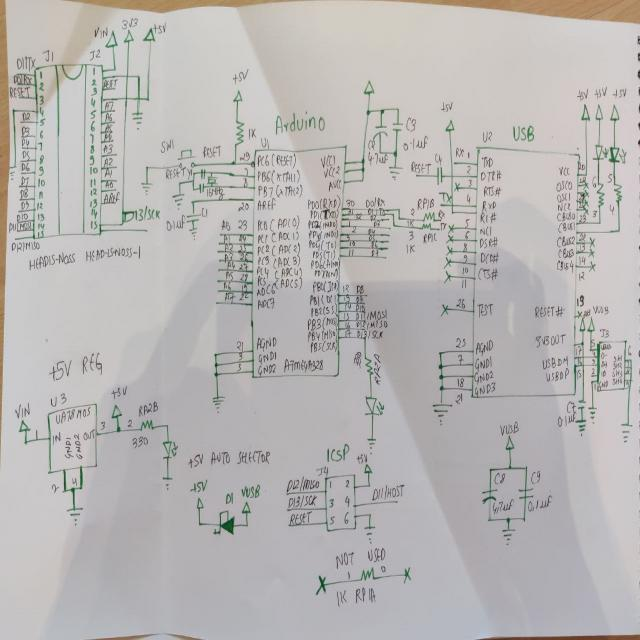capacitor: (480, 487, 498, 504), (372, 123, 388, 141), (518, 486, 534, 499), (185, 212, 201, 223), (390, 120, 402, 133), (576, 398, 586, 410), (436, 166, 442, 184), (200, 167, 206, 180), (198, 182, 204, 194)
crossover: (123, 72, 129, 79), (135, 95, 141, 102), (450, 172, 454, 180), (581, 353, 585, 360), (450, 202, 454, 208), (581, 362, 585, 368)
diode: (213, 508, 235, 536), (362, 394, 384, 417), (607, 145, 627, 165), (162, 439, 178, 460), (591, 144, 609, 161)
ground: (431, 401, 453, 425), (66, 506, 84, 526), (130, 108, 144, 130), (210, 394, 226, 413), (387, 164, 403, 181), (500, 527, 515, 545), (171, 192, 185, 211), (620, 422, 632, 443), (365, 436, 377, 456), (364, 525, 376, 544), (574, 418, 586, 437), (139, 181, 153, 195), (161, 475, 173, 491), (587, 405, 597, 424), (9, 163, 17, 181), (188, 226, 197, 241)
junction: (358, 158, 366, 166), (364, 107, 370, 116), (616, 226, 622, 235), (115, 424, 121, 433), (392, 149, 398, 158), (379, 106, 385, 114), (437, 361, 443, 369), (505, 516, 511, 524), (438, 384, 444, 392), (579, 339, 585, 347), (22, 438, 28, 445), (507, 464, 513, 471), (394, 105, 400, 112), (359, 166, 365, 173), (111, 65, 117, 72), (244, 521, 250, 528), (213, 371, 219, 378), (189, 198, 195, 205), (438, 374, 444, 381), (232, 159, 238, 166), (587, 346, 593, 353), (196, 520, 202, 526), (61, 487, 67, 493), (70, 486, 76, 492), (521, 515, 526, 522), (135, 72, 140, 79), (487, 465, 492, 472), (487, 516, 492, 523), (11, 107, 16, 114), (597, 219, 602, 226), (629, 376, 633, 384), (164, 422, 169, 428), (78, 485, 84, 490), (144, 163, 148, 170), (145, 95, 149, 102), (438, 349, 442, 356), (360, 176, 364, 183), (177, 180, 181, 187), (124, 94, 128, 101), (368, 511, 372, 518), (214, 361, 218, 368), (629, 363, 633, 370), (213, 351, 217, 357), (524, 464, 528, 470), (396, 206, 400, 212), (367, 482, 371, 488), (391, 222, 395, 228), (450, 209, 454, 215), (362, 335, 366, 341), (192, 170, 196, 176), (590, 379, 594, 385), (378, 149, 382, 154), (191, 178, 195, 183), (629, 357, 633, 362), (397, 216, 401, 220), (628, 372, 632, 376), (192, 186, 194, 192), (392, 212, 394, 216), (210, 170, 212, 174), (210, 184, 212, 186)
resistor: (234, 118, 244, 147), (359, 566, 375, 582), (138, 418, 154, 432), (612, 182, 622, 202), (596, 182, 604, 207), (363, 356, 373, 376), (422, 211, 435, 222), (421, 223, 432, 230)
source: (104, 29, 118, 49), (608, 102, 620, 122), (361, 78, 375, 95), (142, 27, 156, 42), (581, 101, 591, 122), (595, 101, 605, 122), (110, 404, 123, 419), (504, 434, 515, 450), (18, 418, 30, 432), (122, 29, 134, 43), (444, 118, 455, 132), (232, 89, 243, 103), (241, 501, 251, 515), (587, 316, 595, 332), (578, 316, 586, 332), (363, 462, 373, 473), (196, 496, 204, 509)
switch: (176, 148, 196, 168)
terminal: (316, 572, 326, 595), (401, 564, 410, 583)
text: (28, 244, 140, 271), (187, 448, 271, 469), (47, 351, 103, 381), (274, 111, 324, 136), (334, 546, 386, 569), (256, 150, 296, 169), (256, 253, 300, 269), (256, 275, 302, 290), (282, 356, 324, 372), (255, 168, 299, 183), (256, 265, 302, 279), (371, 482, 403, 502), (256, 215, 298, 230), (123, 205, 160, 222), (256, 242, 300, 256), (54, 406, 90, 423), (286, 474, 320, 492), (256, 230, 298, 244), (306, 194, 341, 210), (307, 314, 339, 331), (533, 331, 565, 347), (285, 493, 316, 509), (527, 493, 553, 512), (326, 442, 350, 462), (306, 327, 338, 342), (266, 185, 302, 198), (510, 123, 534, 142), (533, 303, 563, 318), (309, 292, 339, 307), (310, 302, 338, 318), (540, 354, 568, 369), (402, 135, 428, 151), (307, 228, 338, 241), (309, 338, 337, 352), (310, 257, 340, 270), (355, 308, 387, 320), (306, 218, 338, 230), (312, 280, 339, 294), (10, 240, 40, 252), (545, 368, 569, 383), (255, 334, 277, 350), (490, 497, 512, 513), (308, 239, 337, 251), (49, 390, 68, 408), (474, 338, 494, 355), (165, 214, 185, 231), (15, 54, 36, 70), (497, 420, 519, 435), (309, 209, 339, 220), (319, 152, 337, 170), (287, 511, 310, 525), (188, 477, 208, 493), (556, 411, 576, 427), (355, 320, 387, 330), (367, 150, 388, 165), (479, 168, 501, 182), (476, 266, 498, 280), (478, 250, 500, 264), (410, 160, 432, 174), (356, 329, 384, 340), (12, 401, 30, 418), (240, 483, 260, 498), (138, 400, 158, 415), (474, 355, 492, 371), (7, 221, 31, 233), (314, 268, 338, 280), (364, 195, 386, 208), (9, 85, 31, 98), (201, 143, 221, 157), (256, 198, 276, 212), (205, 186, 225, 200), (165, 166, 185, 180), (555, 234, 575, 248), (473, 383, 496, 395), (472, 370, 493, 383), (110, 383, 128, 398), (231, 68, 249, 83), (73, 432, 83, 459), (256, 282, 274, 297), (478, 235, 498, 248), (256, 363, 276, 376), (257, 350, 277, 363), (415, 195, 435, 208), (13, 72, 33, 85), (312, 249, 335, 260), (481, 184, 502, 196), (556, 260, 574, 274), (373, 353, 381, 384), (612, 85, 627, 101), (131, 435, 148, 449), (575, 84, 589, 101), (257, 297, 275, 310), (322, 165, 340, 178), (335, 588, 348, 606), (557, 221, 575, 234), (102, 190, 120, 203), (63, 436, 73, 459), (478, 301, 492, 317), (160, 138, 174, 154), (594, 85, 608, 101), (479, 211, 496, 224), (354, 584, 366, 602), (591, 302, 609, 314), (555, 178, 573, 190), (256, 184, 274, 196), (556, 211, 575, 222), (122, 15, 138, 28), (326, 178, 342, 191), (480, 199, 496, 212), (557, 247, 574, 259), (94, 25, 108, 39), (82, 426, 95, 441), (405, 116, 417, 132), (152, 21, 166, 34), (87, 48, 101, 61), (438, 190, 452, 203), (42, 48, 54, 63), (353, 350, 362, 369), (492, 472, 506, 484), (481, 154, 493, 168), (315, 466, 329, 478), (439, 100, 453, 112), (368, 207, 386, 216), (422, 232, 438, 242), (555, 192, 571, 202), (247, 125, 257, 141), (238, 200, 250, 213), (479, 224, 491, 237), (480, 129, 492, 141), (558, 164, 570, 176), (356, 453, 368, 465), (368, 587, 377, 603), (224, 291, 236, 303), (455, 335, 466, 348), (530, 469, 540, 483), (237, 218, 247, 232), (260, 136, 270, 150), (16, 211, 28, 222), (104, 78, 117, 88), (566, 400, 576, 413), (224, 491, 233, 505), (433, 152, 442, 166), (556, 202, 570, 211), (454, 146, 464, 158), (239, 151, 251, 161), (20, 137, 30, 149), (19, 187, 29, 199), (455, 297, 465, 309), (611, 368, 623, 378), (103, 143, 113, 155), (53, 430, 61, 444), (343, 494, 351, 508), (576, 294, 584, 308), (220, 219, 230, 230), (453, 392, 463, 403), (20, 125, 30, 136), (20, 161, 30, 172), (406, 243, 416, 254), (222, 280, 232, 291), (103, 156, 113, 167), (20, 175, 29, 187), (600, 342, 612, 351), (22, 148, 30, 161), (236, 339, 244, 352), (222, 232, 230, 245), (224, 251, 232, 264), (599, 327, 609, 337), (598, 380, 608, 390), (345, 198, 355, 208), (370, 248, 380, 258), (239, 272, 249, 282), (104, 100, 114, 110), (104, 111, 113, 122), (456, 352, 464, 364), (460, 277, 468, 289), (367, 138, 375, 150), (578, 254, 586, 266), (51, 482, 59, 494), (224, 242, 232, 254), (104, 167, 112, 179), (88, 154, 96, 166), (89, 108, 97, 120), (575, 368, 582, 381), (20, 200, 29, 210), (612, 353, 622, 362), (612, 361, 622, 370), (370, 239, 379, 249), (238, 292, 248, 301), (238, 263, 248, 272), (89, 198, 98, 208), (328, 514, 336, 525), (437, 209, 445, 220), (578, 232, 586, 243), (356, 283, 364, 294), (574, 345, 582, 356), (611, 377, 622, 385), (456, 377, 464, 388), (226, 260, 234, 271), (240, 282, 248, 293), (90, 219, 98, 230), (90, 208, 98, 219), (37, 177, 45, 188), (343, 510, 349, 524), (407, 230, 414, 242), (37, 165, 44, 177), (88, 132, 95, 144), (578, 175, 587, 184), (22, 110, 30, 120), (439, 221, 447, 231), (582, 308, 590, 318), (342, 311, 350, 321), (343, 328, 351, 338), (355, 304, 365, 312), (225, 270, 233, 280), (240, 252, 248, 262), (237, 244, 247, 252), (104, 132, 112, 142), (90, 187, 98, 197), (90, 86, 98, 96), (36, 212, 44, 222), (608, 203, 614, 216), (626, 344, 632, 357), (71, 476, 78, 487), (328, 498, 334, 510), (461, 266, 469, 275), (406, 218, 414, 227), (578, 270, 584, 282), (578, 214, 586, 223), (591, 176, 597, 188), (606, 172, 612, 184), (242, 176, 248, 188), (342, 293, 350, 302), (355, 295, 363, 304), (600, 359, 608, 368), (600, 351, 608, 360), (354, 212, 362, 221), (346, 248, 354, 257), (372, 219, 380, 228), (238, 234, 246, 243), (104, 123, 112, 132), (105, 180, 113, 189), (88, 178, 96, 187), (89, 166, 98, 174), (38, 117, 46, 126), (37, 140, 43, 152), (90, 120, 96, 132), (36, 230, 44, 239), (465, 192, 472, 202), (126, 418, 133, 428), (201, 206, 208, 216), (578, 192, 585, 202), (38, 94, 44, 105), (465, 164, 471, 175), (462, 242, 468, 253), (464, 218, 470, 229), (579, 242, 585, 253), (243, 166, 249, 177), (342, 283, 348, 294), (576, 356, 582, 367), (38, 154, 44, 165), (38, 106, 44, 117), (38, 81, 44, 92), (90, 97, 96, 108), (38, 189, 44, 200), (344, 302, 352, 310), (348, 239, 356, 247), (368, 234, 376, 242), (36, 222, 44, 230), (344, 479, 351, 488), (100, 419, 106, 429), (462, 254, 468, 264), (464, 230, 470, 240), (591, 208, 597, 218), (89, 144, 95, 154), (38, 129, 44, 139), (38, 70, 44, 80), (36, 201, 42, 211), (367, 228, 375, 235), (90, 78, 98, 85), (409, 207, 415, 216), (236, 363, 242, 372), (380, 564, 386, 573), (590, 338, 596, 347), (624, 380, 630, 389), (600, 369, 606, 378), (347, 207, 353, 216), (35, 427, 39, 440), (344, 321, 351, 328), (369, 214, 376, 221), (578, 202, 586, 208), (578, 162, 584, 170), (467, 178, 472, 187), (351, 224, 356, 233), (328, 478, 332, 489), (347, 569, 351, 580), (593, 381, 597, 392), (344, 234, 350, 241), (467, 150, 471, 160), (238, 351, 242, 361), (591, 367, 595, 376), (590, 358, 596, 364), (591, 348, 595, 357), (347, 219, 351, 228), (92, 65, 95, 76), (626, 359, 630, 366), (625, 367, 629, 374)
